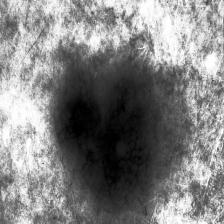Benign Marking or Mole: (60, 81, 152, 203)
